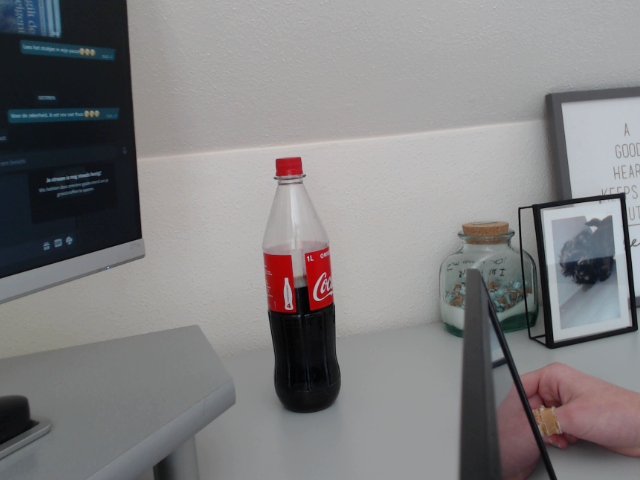bottle: (262, 156, 342, 414)
